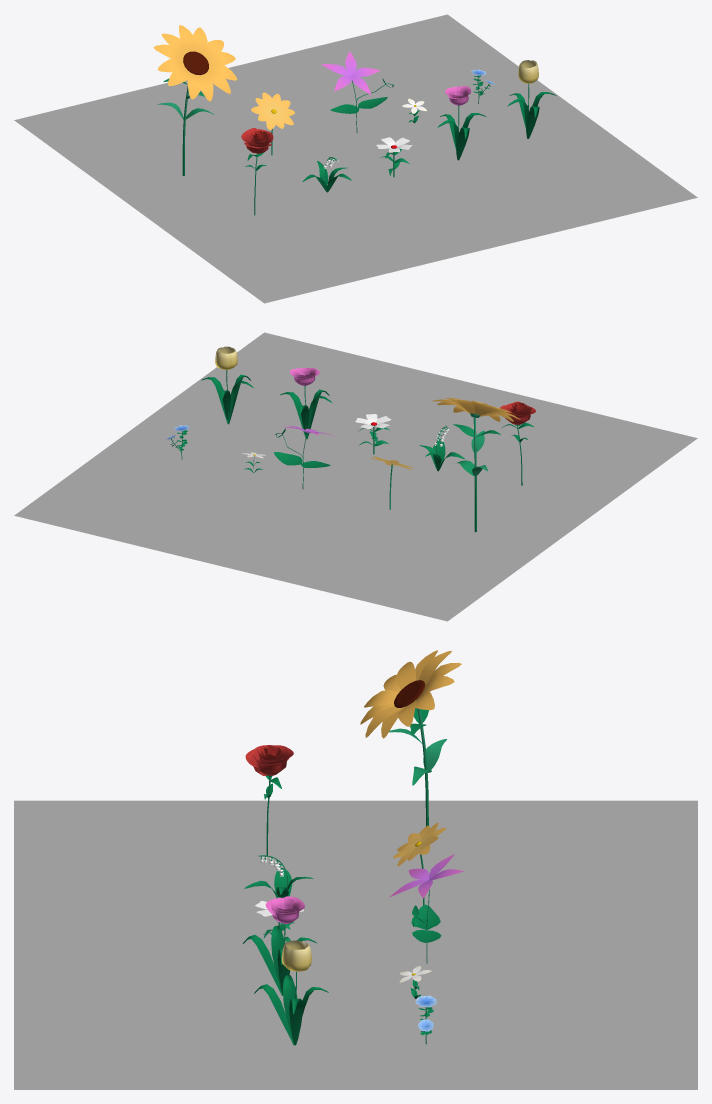
The model's file is lowpoly_flower_2306.fbx.
3 renders of one model, top to bottom at view 1: azimuth 30°, elevation 25°; view 2: azimuth 150°, elevation 25°; view 3: azimuth 270°, elevation 25°, orthographic. The views are drawn at different scales.
Parts seen in each view (by area): view 1: 平面.020, エンプティ; view 2: 平面.020, エンプティ; view 3: 平面.020, エンプティ.
Part boxes in pixels (x1,y1,x2,y2): 平面.020: (14, 14, 697, 303); エンプティ: (153, 25, 556, 215); 平面.020: (14, 332, 697, 621); エンプティ: (166, 346, 535, 532); 平面.020: (14, 800, 697, 1089); エンプティ: (243, 650, 463, 1045).
Bounding box in the file's own units: 63586 × 19491 × 63586.
Materials: 14 (10 with a texture image).
